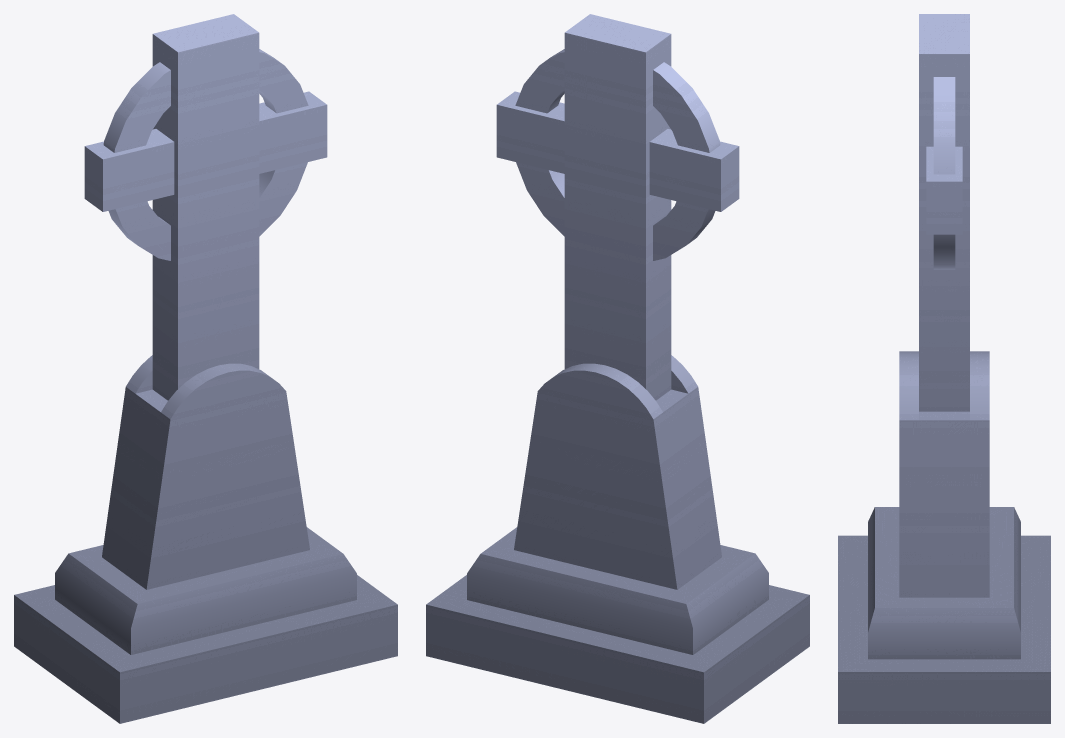
File: gravestone.glb
3 renders of one model, left to right at view 1: azimuth 30°, elevation 25°; view 2: azimuth 150°, elevation 25°; view 3: azimuth 270°, elevation 25°, orthographic.
Visible parts, largest first — view 1: gravestone-cross-large; view 2: gravestone-cross-large; view 3: gravestone-cross-large.
Part boxes in pixels (box(x1,y1,x2,y2)): gravestone-cross-large: box(14, 14, 397, 723); gravestone-cross-large: box(426, 14, 809, 723); gravestone-cross-large: box(838, 14, 1050, 723).
Bounding box in the file's own units: 0.4415 × 0.9383 × 0.2913.
Materials: 1 (1 with a texture image).
